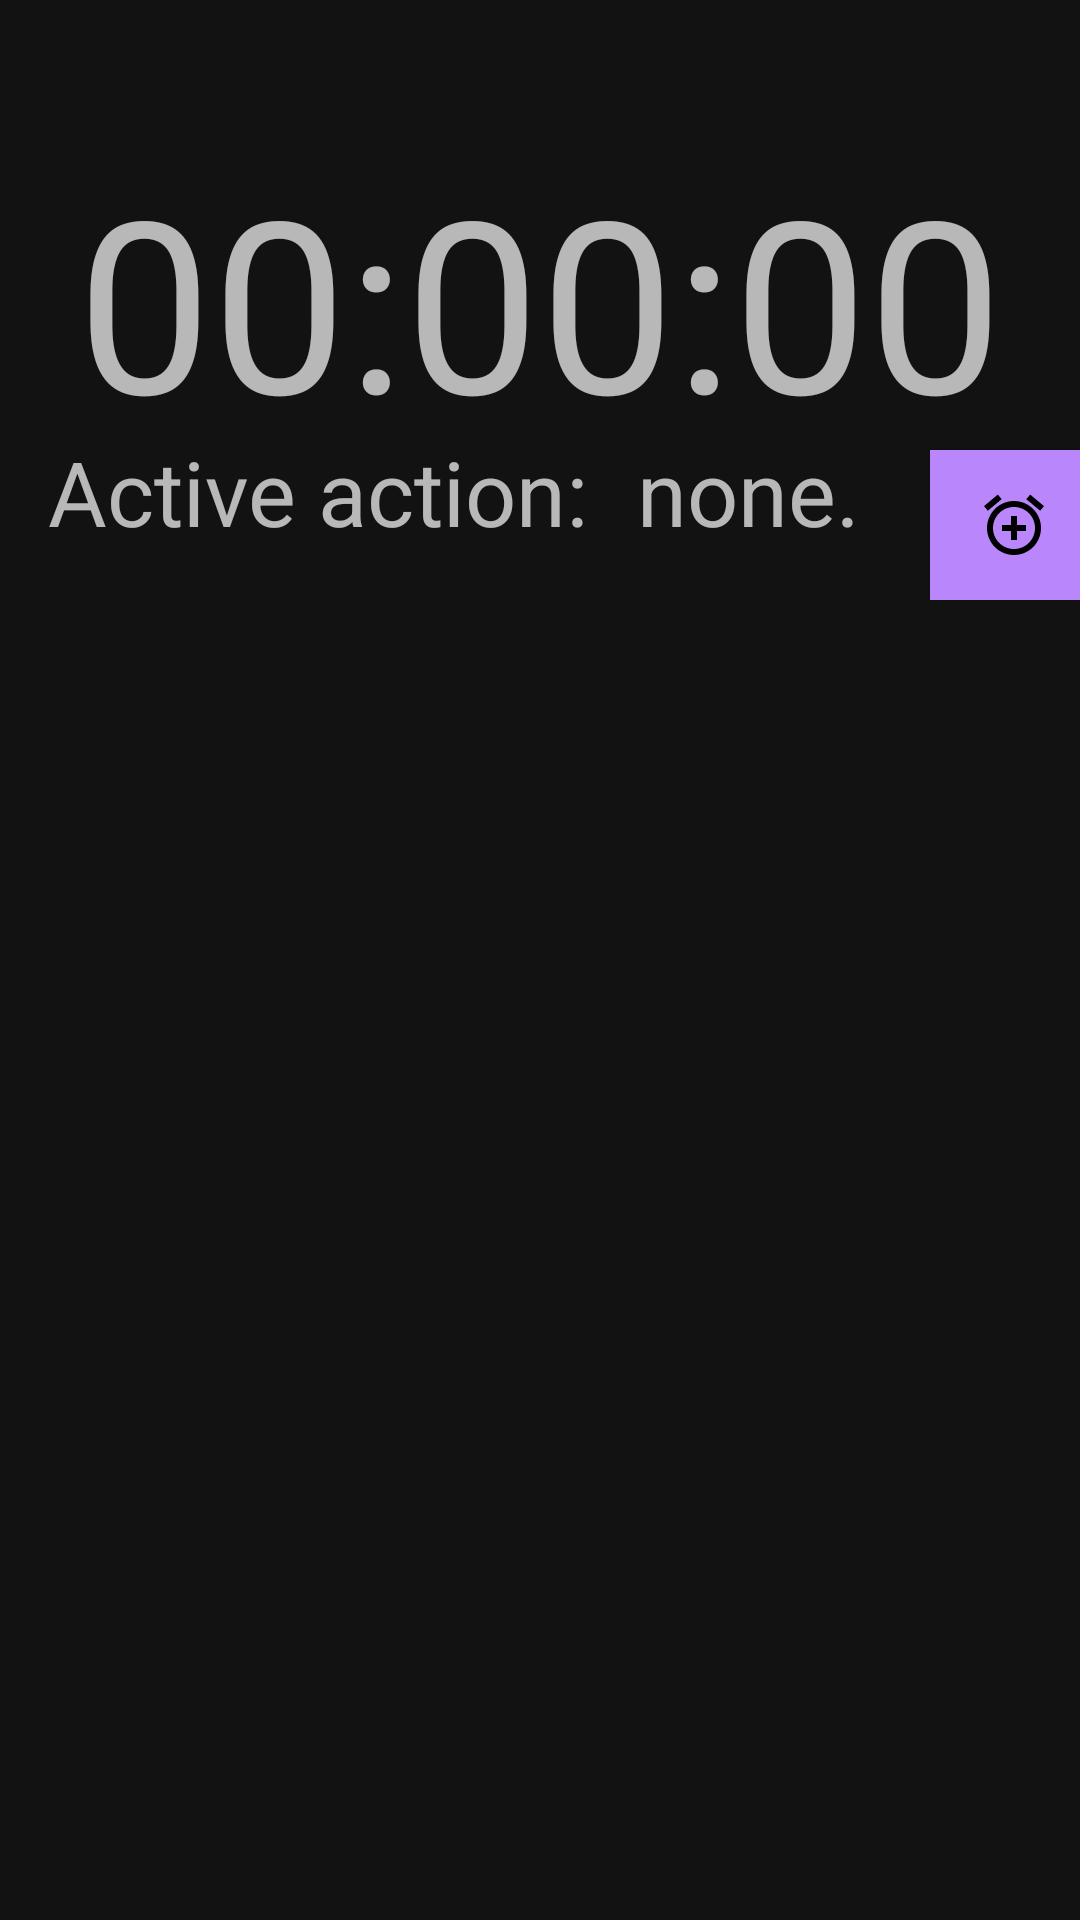

Locate icon controls on the screen. Image size 1080*1920, boxes as (x1, y1, x2, y2).
add alarm: (930, 450, 1080, 600)
